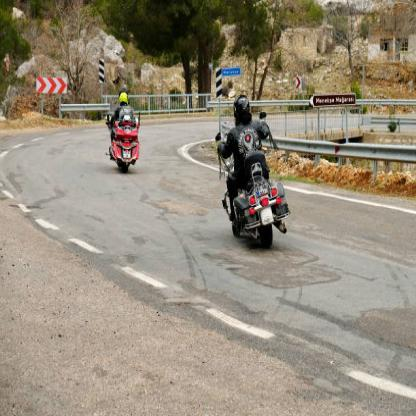Motorcycle: (204, 129, 291, 248), (100, 91, 167, 174)
